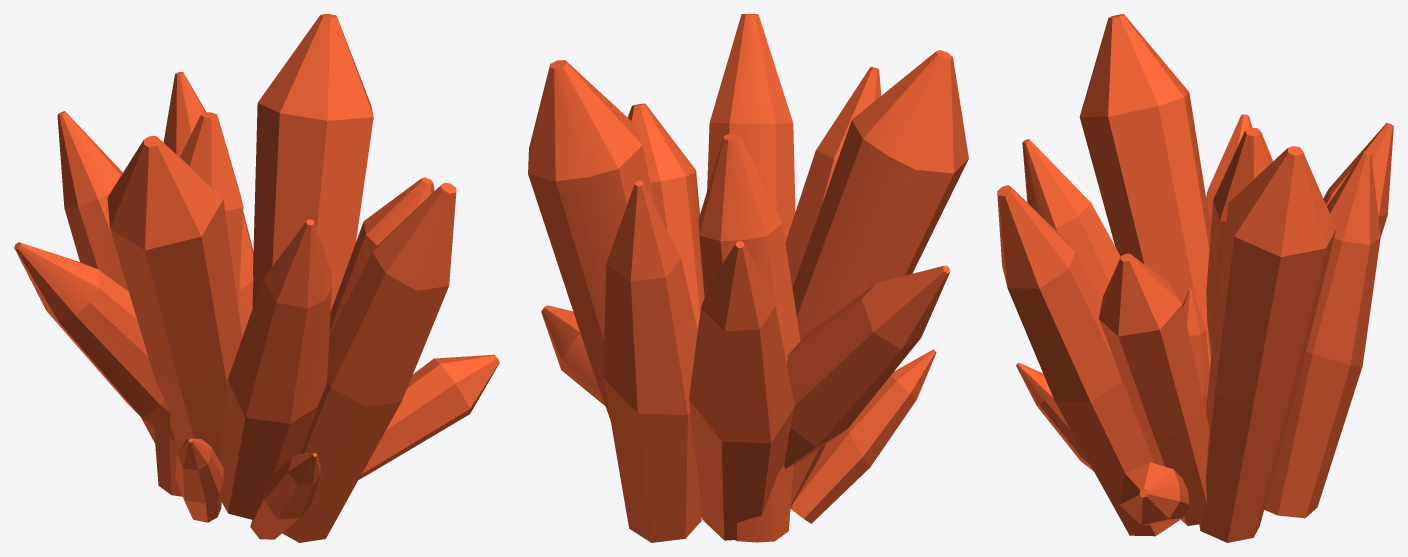
Rendered from Crystal_Bunch_Orange.fbx.
3 views of the same model, side by side, from view 1: azimuth 30°, elevation 25°; view 2: azimuth 150°, elevation 25°; view 3: azimuth 270°, elevation 25° (orthographic). The views are drawn at different scales.
Visible parts, largest first — view 1: Model; view 2: Model; view 3: Model.
Boxes of the visible parts, bbox=[...] form: Model: bbox=[14, 14, 499, 542]; Model: bbox=[528, 14, 968, 542]; Model: bbox=[997, 14, 1393, 542].
Bounding box in the file's own units: 337 × 335 × 276.
